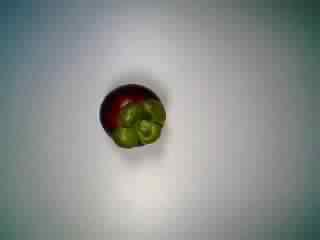mangosteen: (89, 79, 167, 155)
